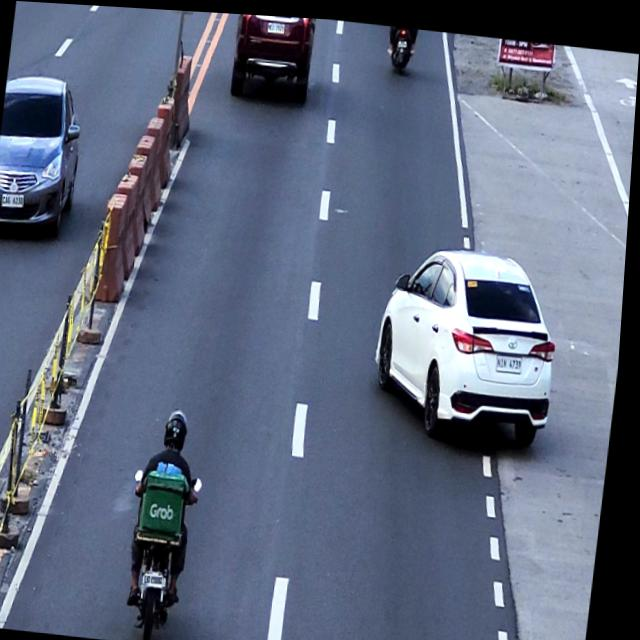Car: (371, 234, 571, 443), (0, 70, 89, 237), (229, 11, 316, 101)
License-Plate: (499, 346, 529, 368), (148, 567, 173, 588), (4, 192, 28, 209), (267, 17, 286, 31), (397, 35, 408, 45)
Motorcycle: (123, 465, 210, 640), (385, 22, 418, 69)
